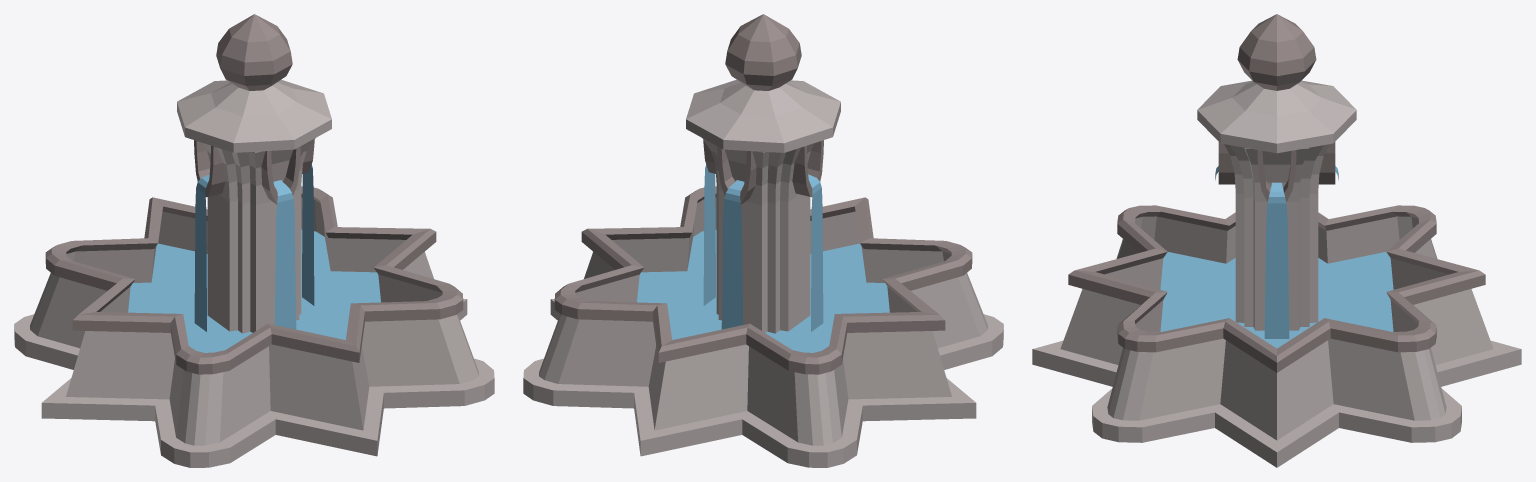
File: Fountain.fbx
3 renders of one model, left to right at view 1: azimuth 30°, elevation 25°; view 2: azimuth 150°, elevation 25°; view 3: azimuth 270°, elevation 25°, orthographic.
Parts seen in each view (by area): view 1: FounTain; view 2: FounTain; view 3: FounTain.
Boxes of the visible parts, x1,y1,x2,y2 form: FounTain: [14, 14, 494, 467]; FounTain: [523, 14, 1003, 467]; FounTain: [1032, 14, 1521, 467].
Bounding box in the file's own units: 285 × 285 × 225.
